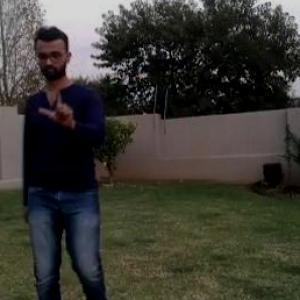land_hand: (36, 82, 80, 132)
